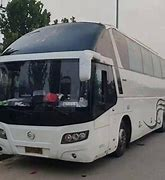bigcar: (0, 14, 162, 164)
